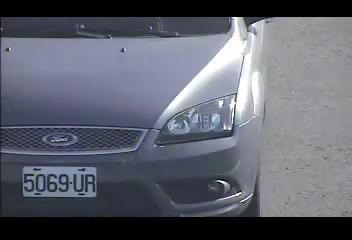plate: (22, 164, 98, 199)
